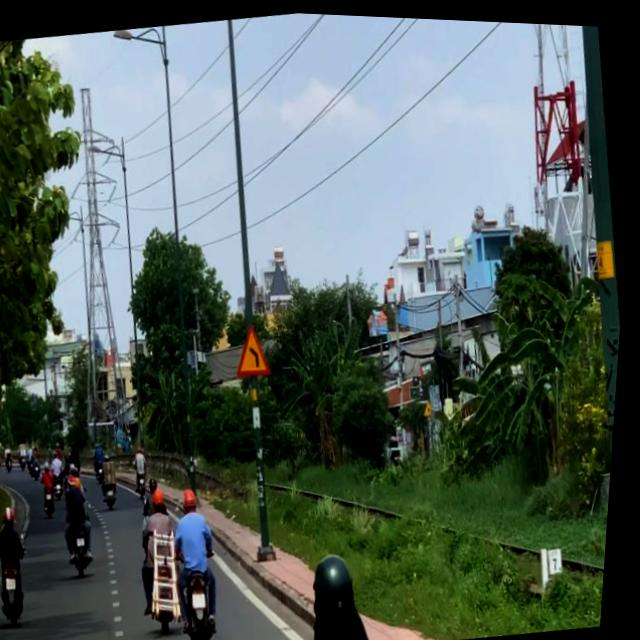cho ngoat nguy hiem vong ben trai: (233, 316, 280, 380)
